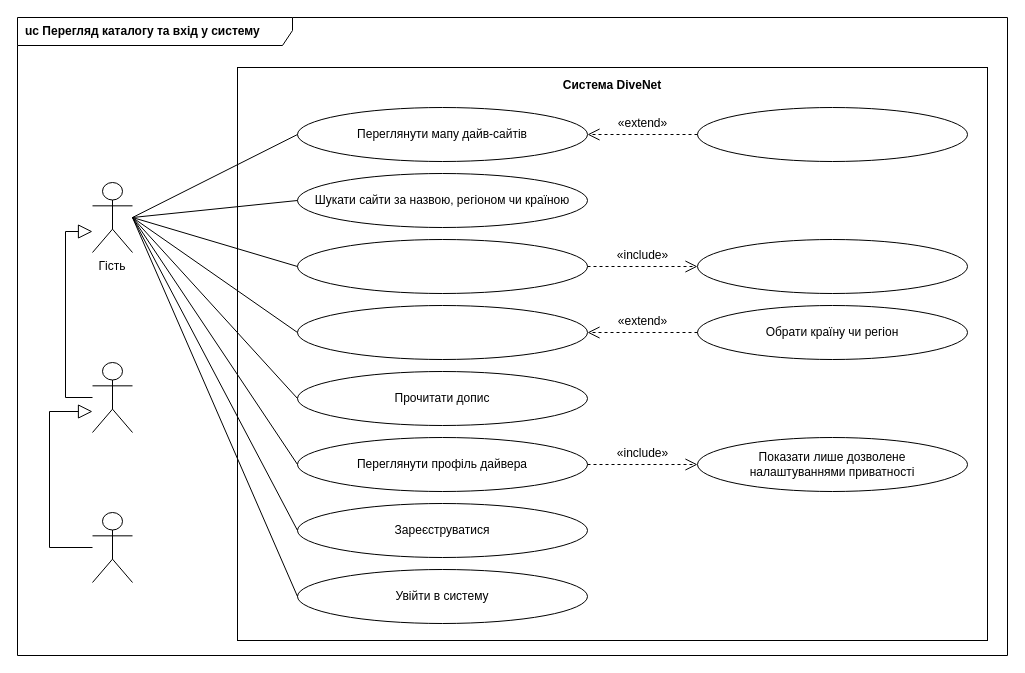
Some shapes in this 1025 by 673 pixel diagram are drawn without their labels. Each missing label, with the box of its shape:
Адміністратор: (92, 512, 132, 582)
Відфільтрувати сайти за критеріями: (696, 106, 968, 162)
Дайвер: (92, 362, 132, 432)
Переглянути сторінку дайв-сайту: (296, 238, 588, 294)
Прочитати відгуки, попередження та дописи про сайт: (696, 238, 968, 294)
Читати стрічку дописів: (296, 304, 588, 360)
